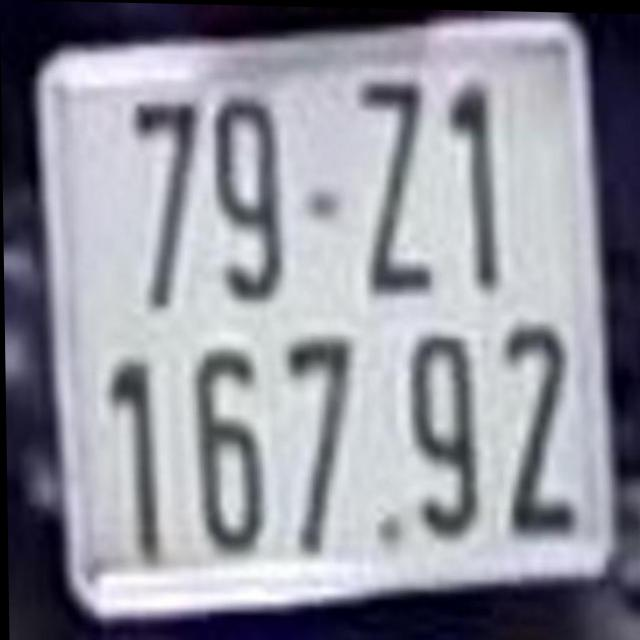1: (446, 74, 505, 282), (109, 358, 159, 559)
2: (504, 319, 581, 535)
6: (192, 346, 264, 553)
7: (132, 97, 203, 311), (284, 336, 349, 549)
9: (405, 327, 481, 533), (211, 94, 285, 296)
Z: (357, 72, 435, 293)
